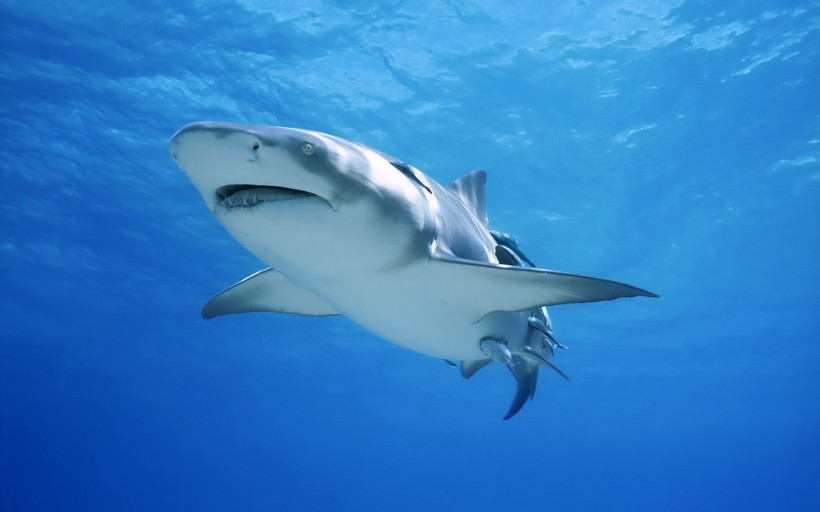shark: (157, 114, 669, 431)
